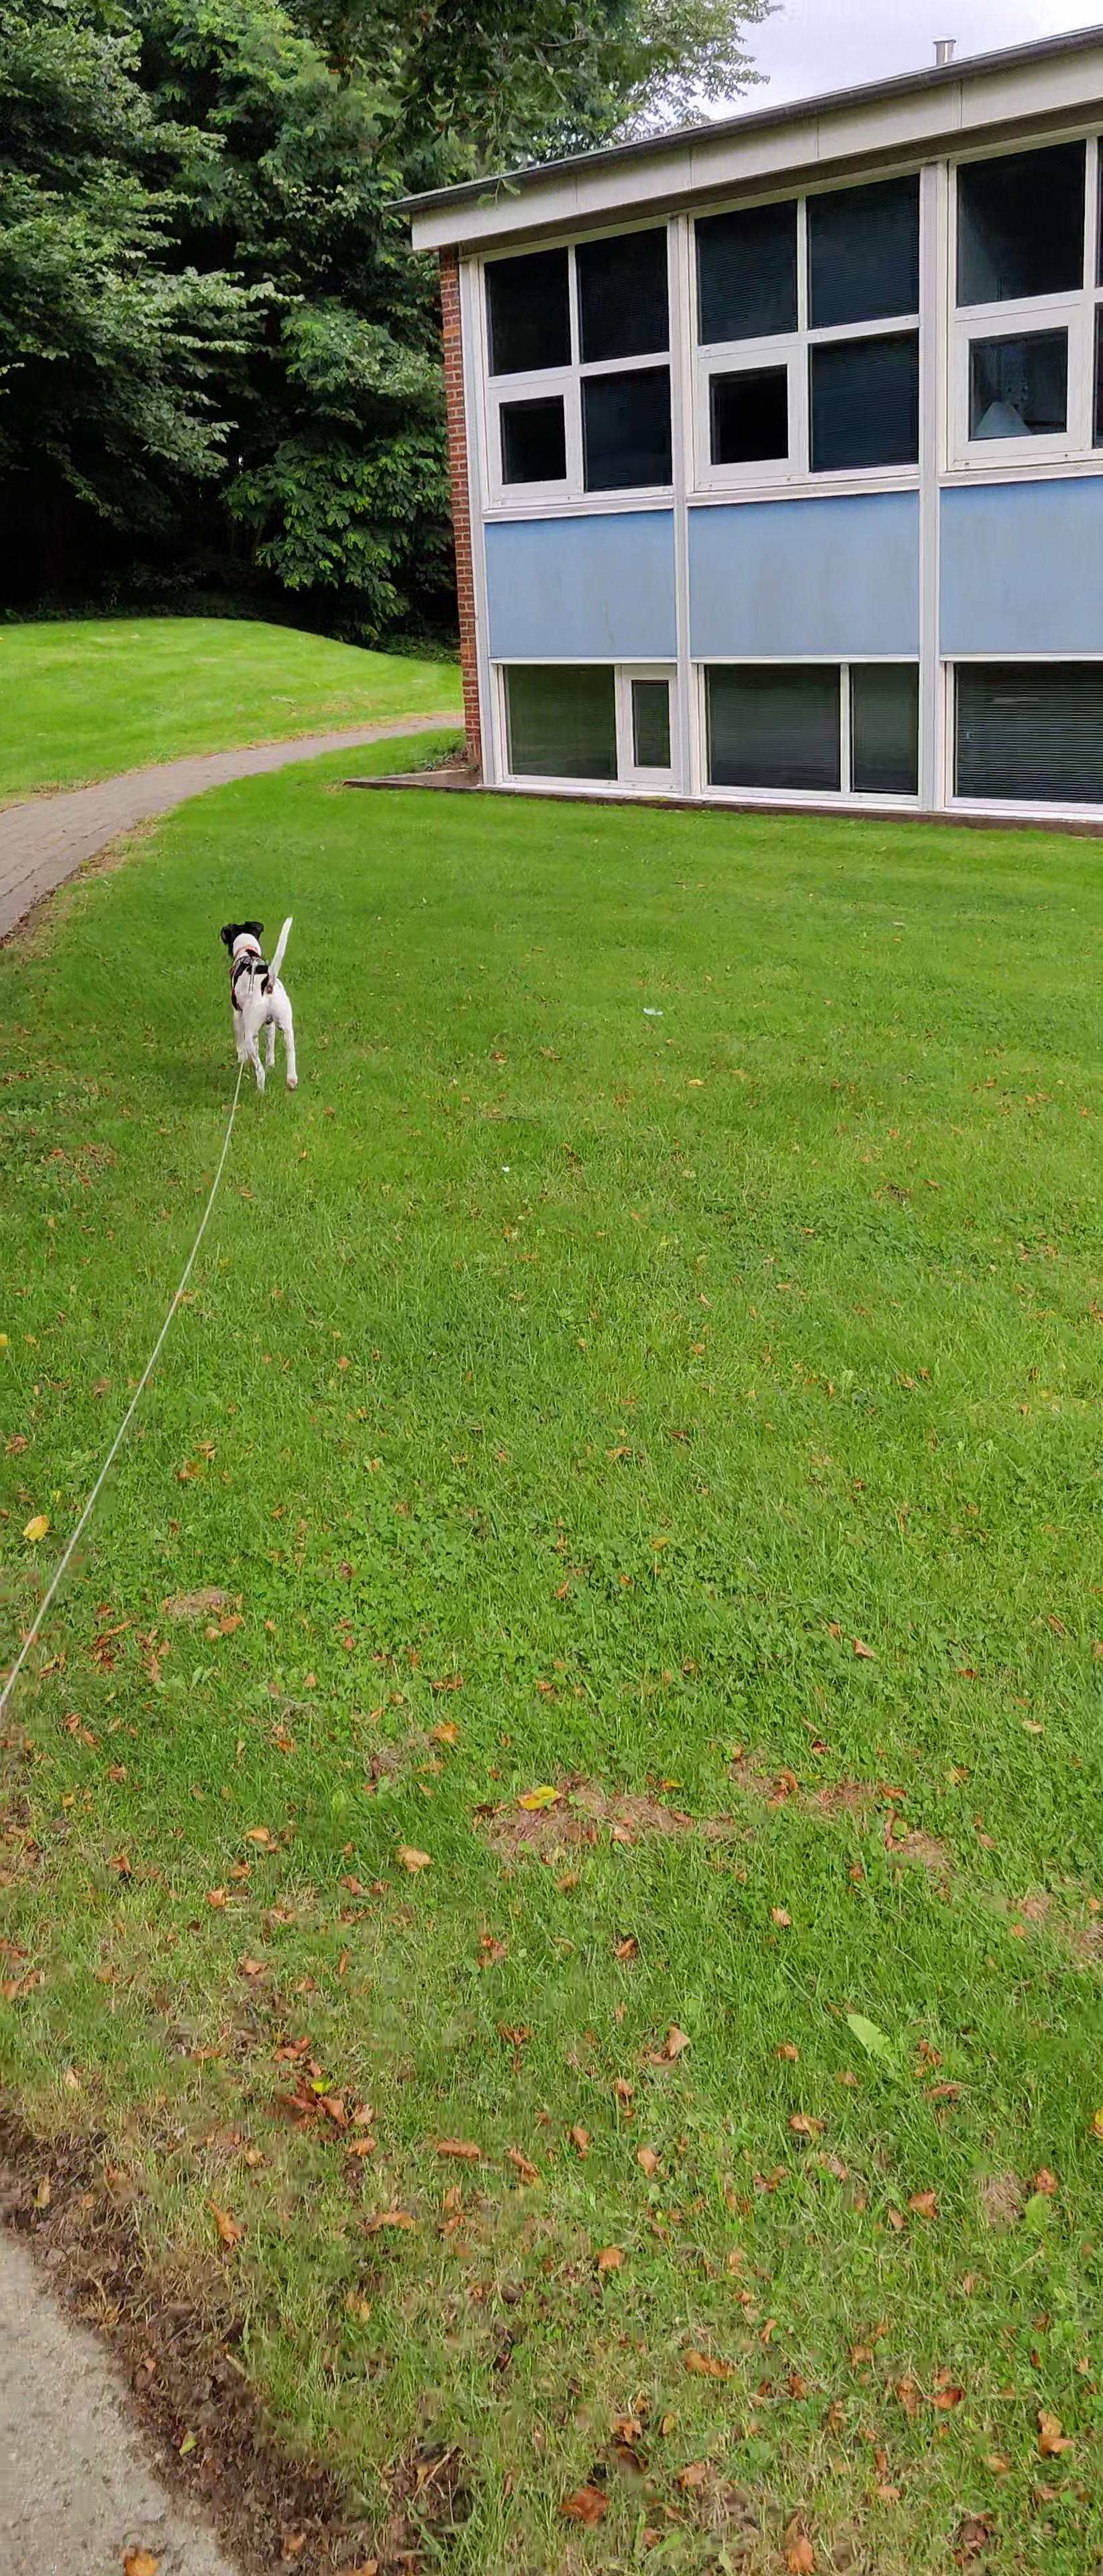Dog: (215, 913, 304, 1094)
